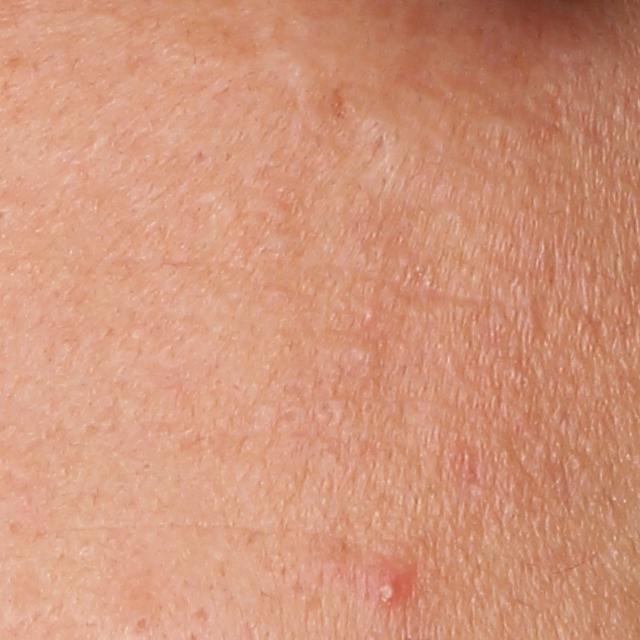pustule: (371, 564, 405, 609)
